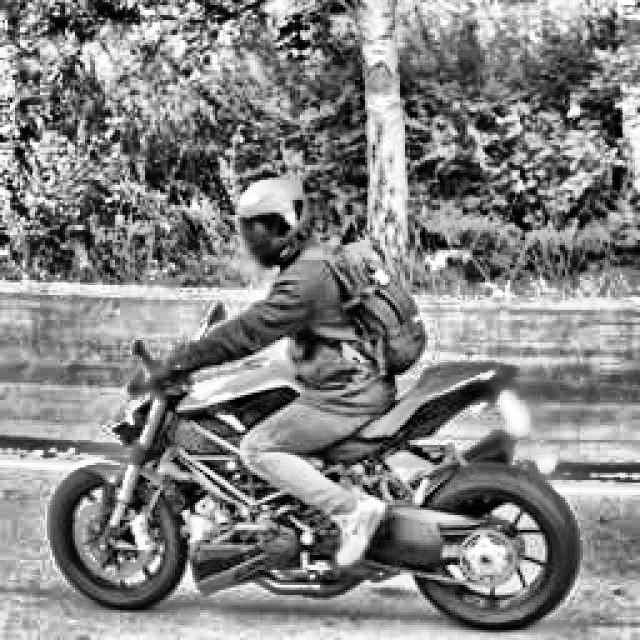motorcycle: (34, 312, 626, 626)
